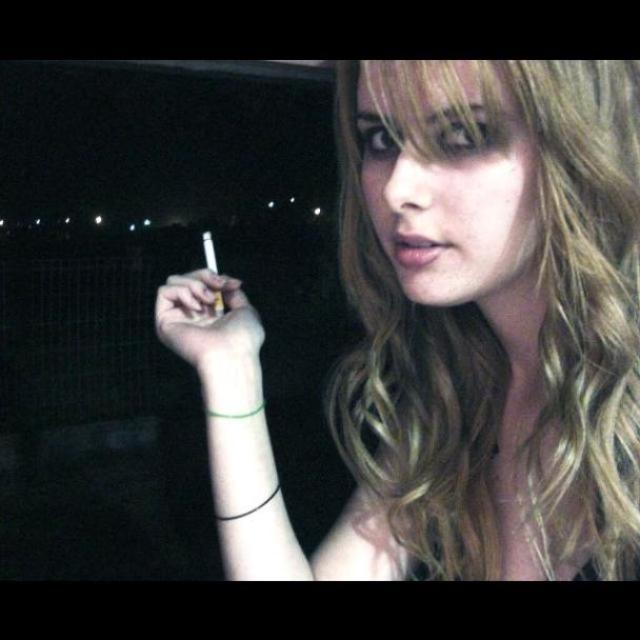rokok: (197, 226, 239, 320)
